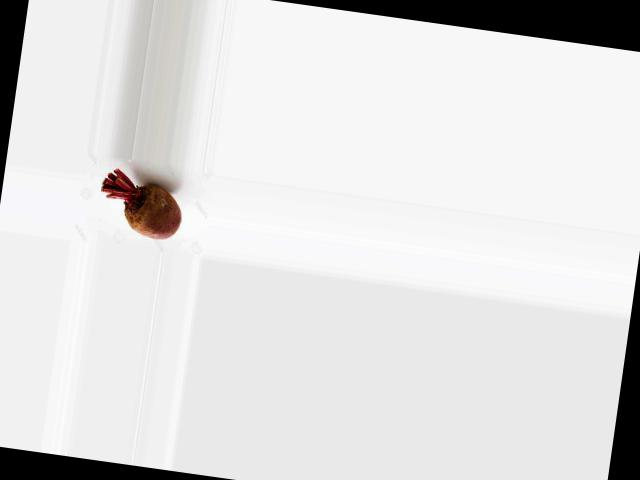beet: (96, 166, 187, 242)
